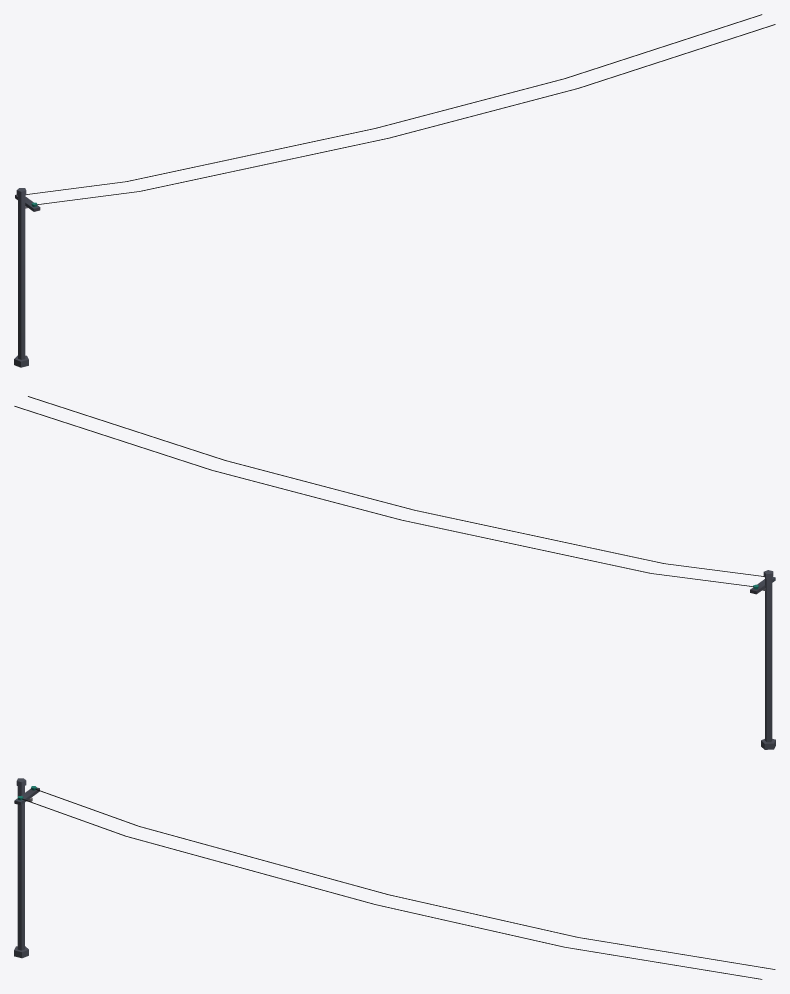
The model's file is SM_Electric_Pole_Big_1.FBX.
3 views of the same model, one above another, from view 1: azimuth 30°, elevation 25°; view 2: azimuth 150°, elevation 25°; view 3: azimuth 330°, elevation 25° (orthographic).
Parts seen in each view (by area): view 1: SM_Electric_Pole_Big_1; view 2: SM_Electric_Pole_Big_1; view 3: SM_Electric_Pole_Big_1.
Part boxes in pixels (x1,y1,x2,y2): SM_Electric_Pole_Big_1: (14,14,775,367); SM_Electric_Pole_Big_1: (14,396,775,749); SM_Electric_Pole_Big_1: (14,778,775,979).
Size of what is drawn, in the model's own units: 4576 by 200 by 1014.
